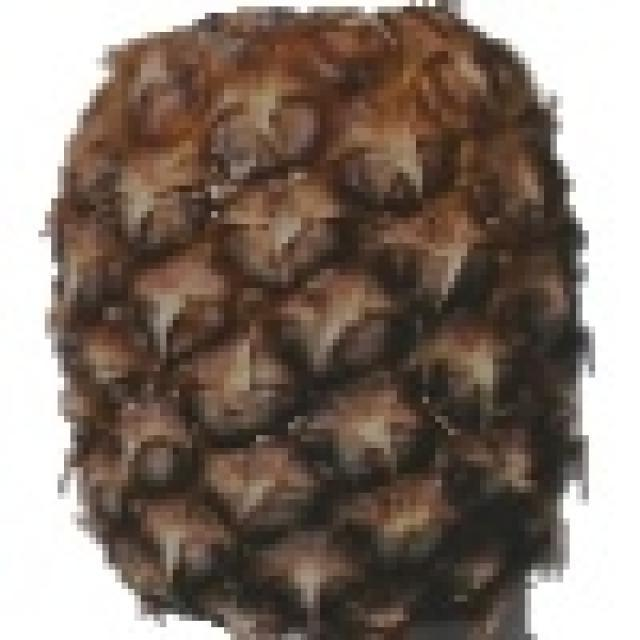pineapple: (45, 0, 570, 627)
